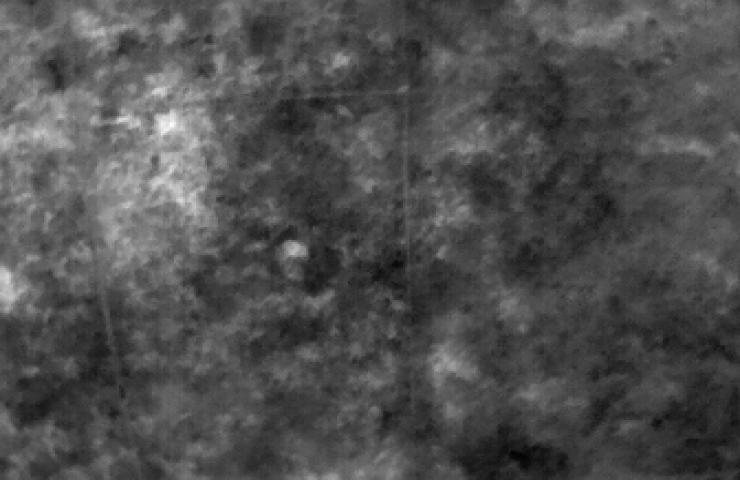landmines: (280, 239, 310, 263)
